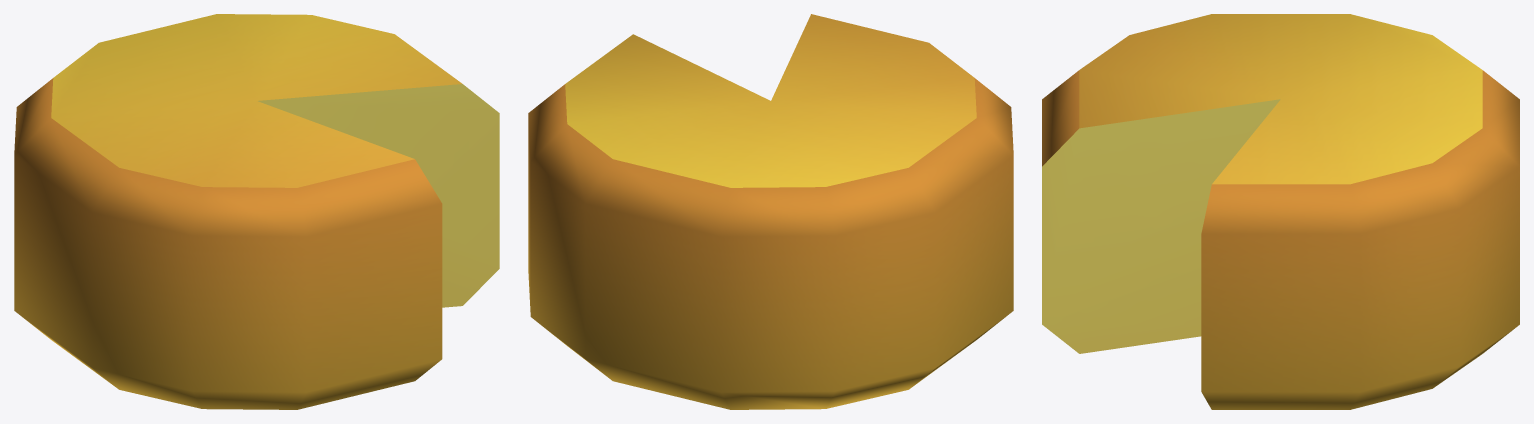
File: cheese_wheel_yellow.fbx
3 views of the same model, side by side, from view 1: azimuth 30°, elevation 25°; view 2: azimuth 150°, elevation 25°; view 3: azimuth 270°, elevation 25° (orthographic).
Visible parts, largest first — view 1: cheese_wheel_yellow; view 2: cheese_wheel_yellow; view 3: cheese_wheel_yellow.
Part boxes in pixels (bbox=[...]): cheese_wheel_yellow: bbox=[14, 14, 499, 409]; cheese_wheel_yellow: bbox=[528, 14, 1013, 409]; cheese_wheel_yellow: bbox=[1042, 14, 1519, 409].
Bounding box in the file's own units: 33.93 × 17.68 × 33.93.
